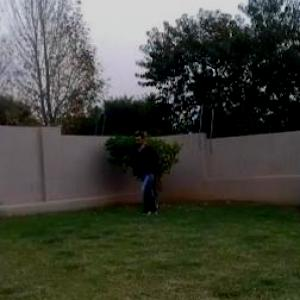follow: (134, 126, 160, 218)
